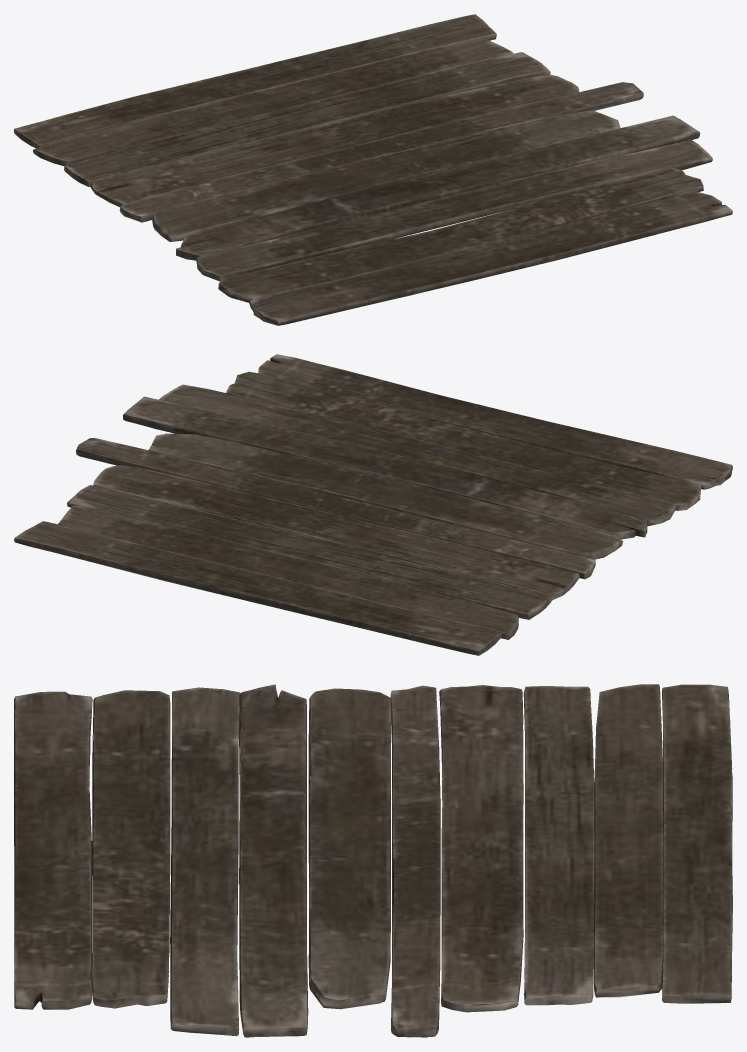
File: pier_deck.glb
3 renders of one model, top to bottom at view 1: azimuth 30°, elevation 25°; view 2: azimuth 150°, elevation 25°; view 3: azimuth 270°, elevation 25°, orthographic. The views are drawn at different scales.
Parts seen in each view (by area): view 1: modular_wooden_pier_planks; view 2: modular_wooden_pier_planks; view 3: modular_wooden_pier_planks.
Part boxes in pixels (box(x1,y1,x2,y2)): modular_wooden_pier_planks: box(14, 14, 732, 325); modular_wooden_pier_planks: box(14, 354, 732, 655); modular_wooden_pier_planks: box(14, 684, 732, 1037).
Bounding box in the file's own units: 2.52 × 0.0808 × 2.2.
1 material, 1 textured.
